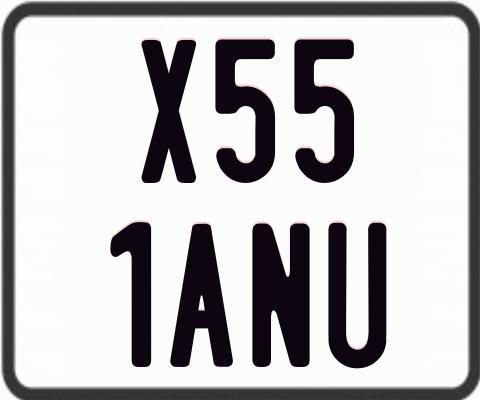1: (110, 221, 154, 367)
5: (291, 39, 357, 183), (214, 38, 277, 185)
A: (170, 221, 233, 367)
N: (251, 222, 309, 368)
U: (328, 221, 392, 371)
X: (139, 40, 193, 183)
